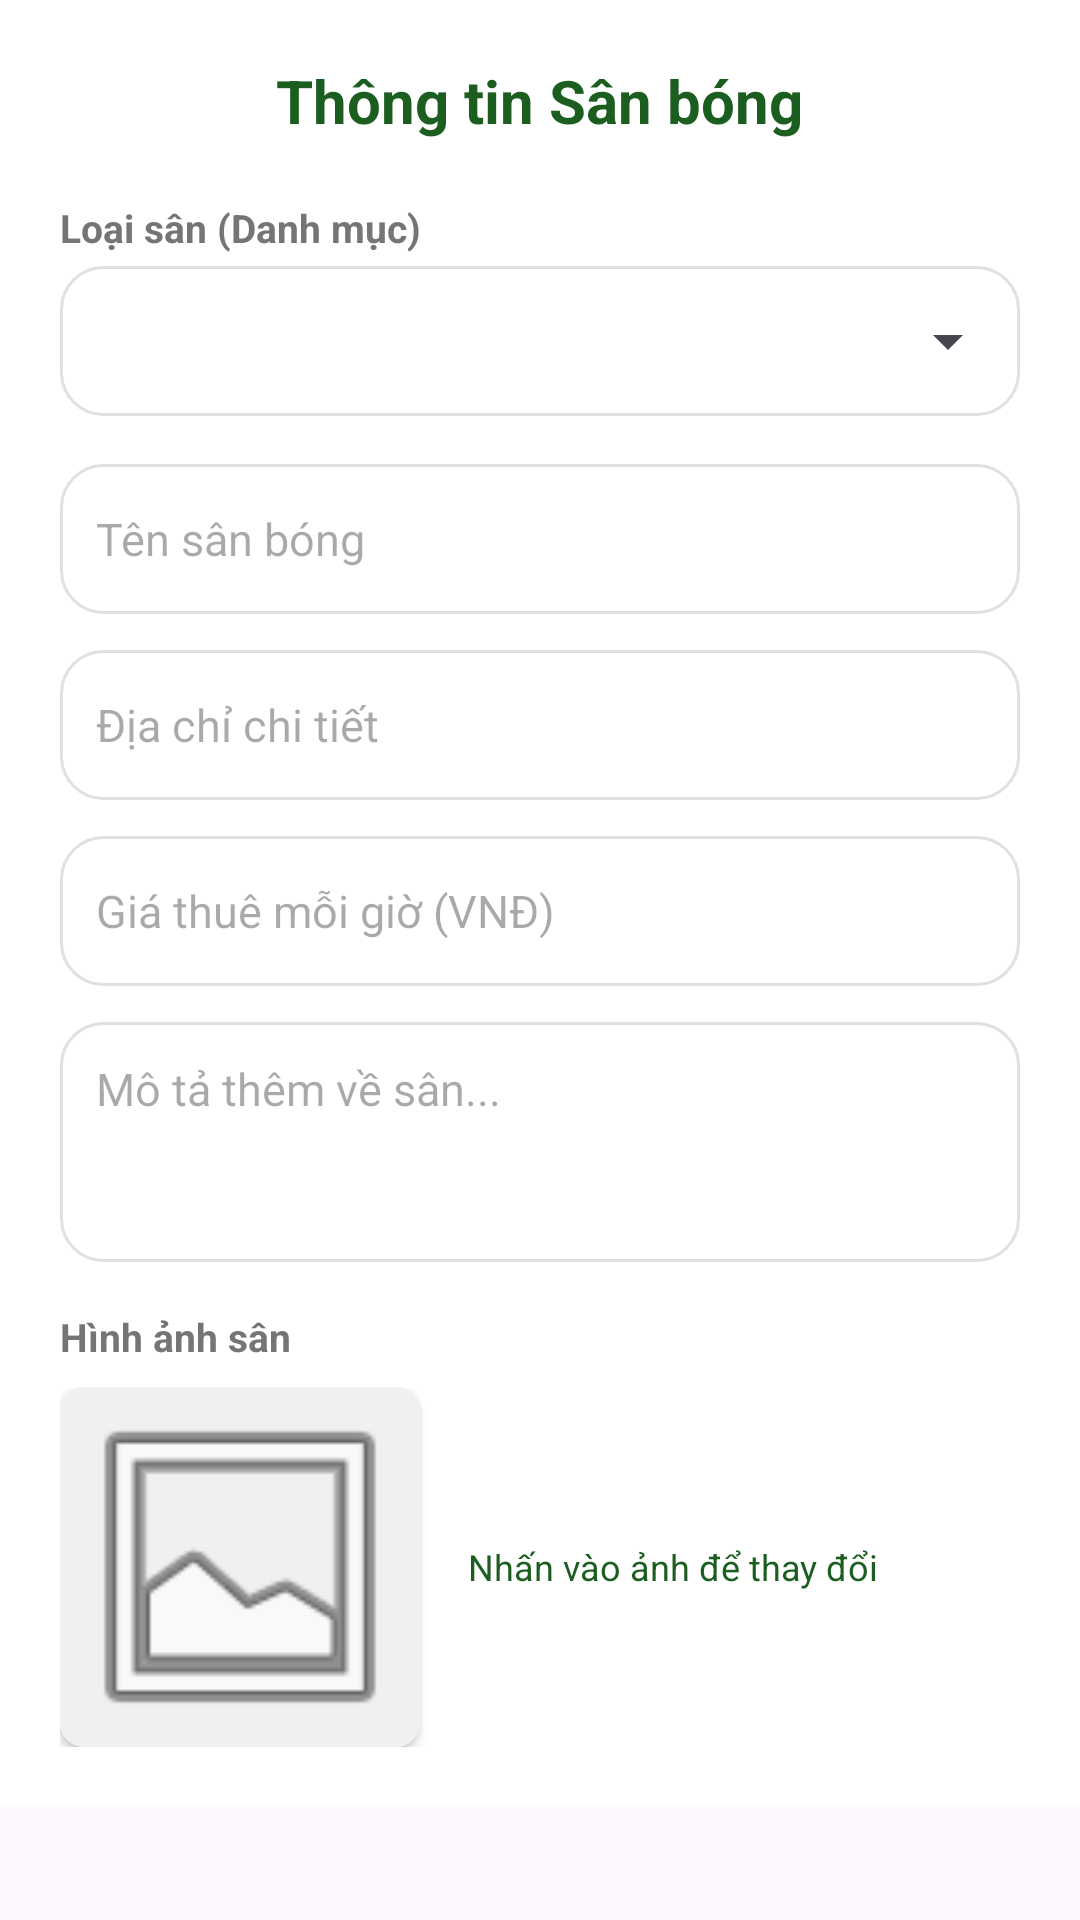

Where icons sit on this 1080 × 1920 app screen, as [x1, y1, x2, y2]:
gallery: [60, 1387, 420, 1747]
